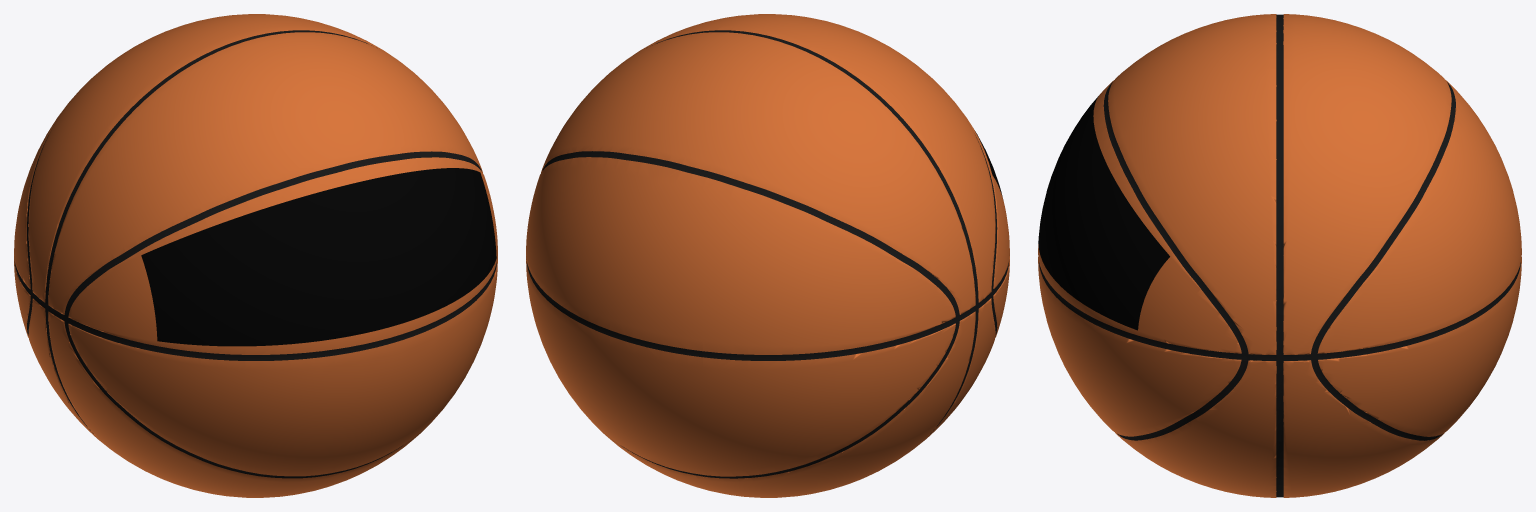
Rendered from basketball.fbx.
3 renders of one model, left to right at view 1: azimuth 30°, elevation 25°; view 2: azimuth 150°, elevation 25°; view 3: azimuth 270°, elevation 25°, orthographic.
Visible parts, largest first — view 1: basketball; view 2: basketball; view 3: basketball.
Boxes of the visible parts, box(x1,y1,x2,y2) form: basketball: box(14, 14, 497, 497); basketball: box(526, 14, 1009, 497); basketball: box(1038, 14, 1521, 497).
Size of the model in its own units: 2 by 2 by 2.
